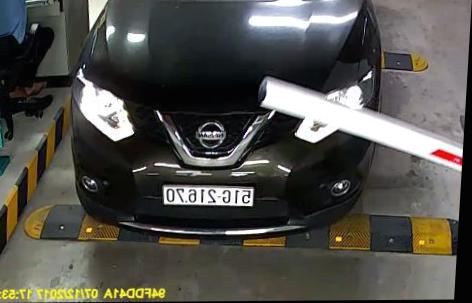License_Plate: (157, 180, 258, 211)
